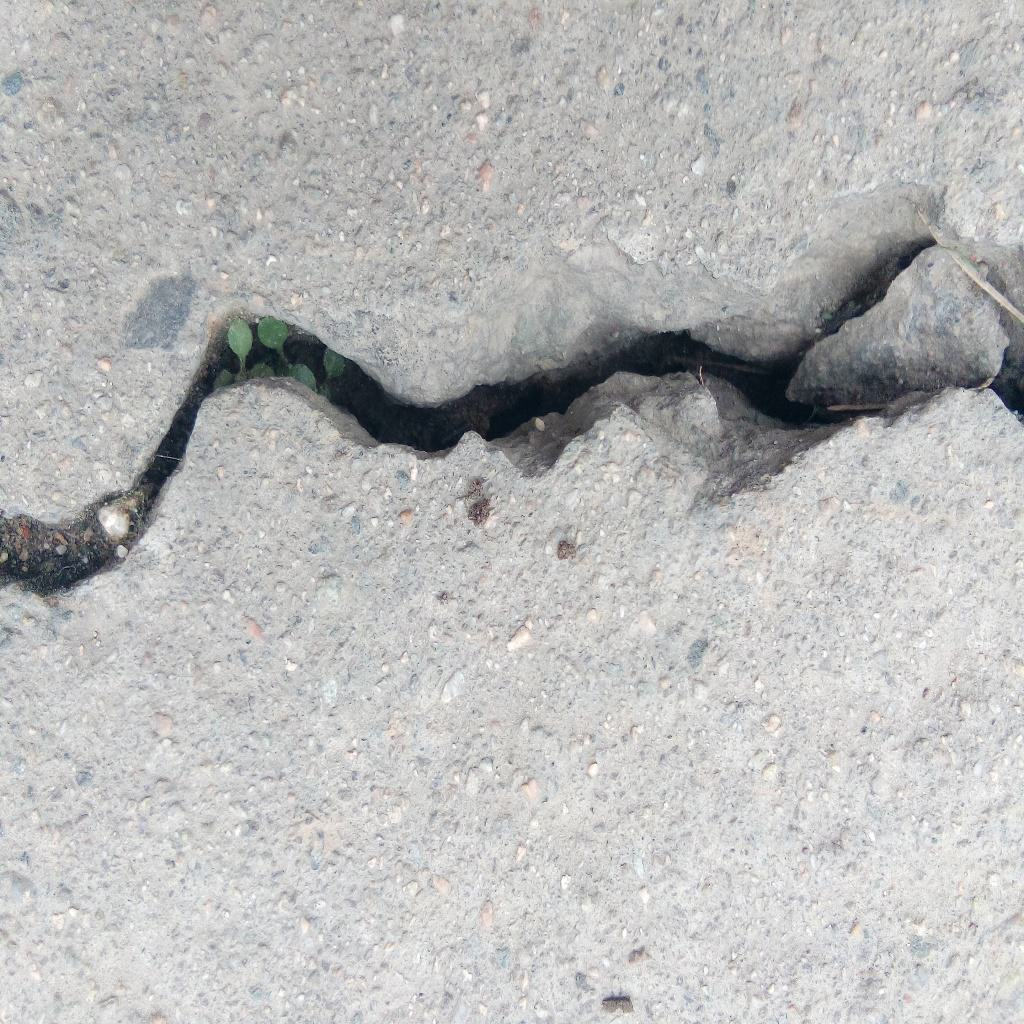Crack: (1, 231, 1024, 599)
